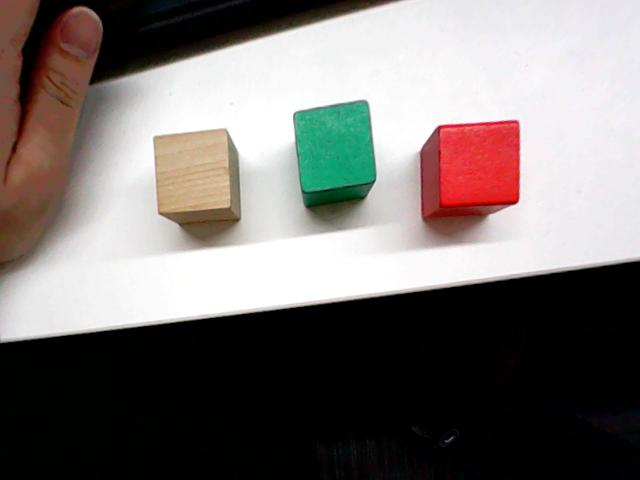green_box: (289, 95, 382, 208)
raw_box: (144, 128, 248, 228)
red_box: (419, 120, 523, 220)
